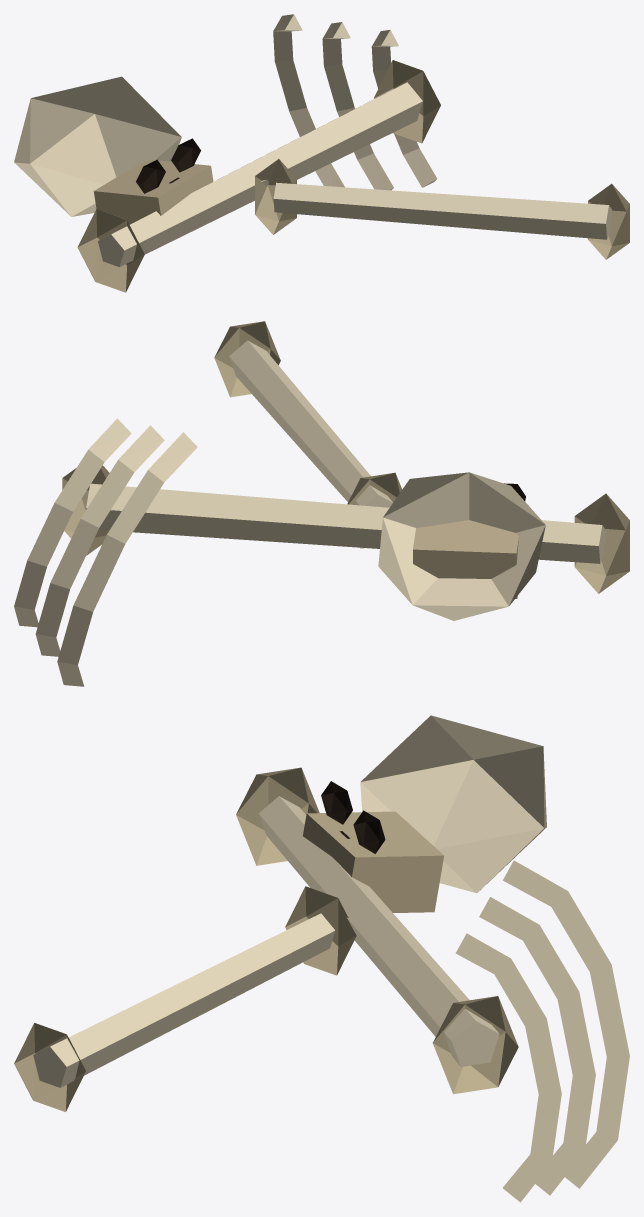
File: dk_bones.glb
3 renders of one model, top to bottom at view 1: azimuth 30°, elevation 25°; view 2: azimuth 150°, elevation 25°; view 3: azimuth 270°, elevation 25°, orthographic. The views are drawn at different scales.
Parts seen in each view (by area): view 1: dk_bones; view 2: dk_bones; view 3: dk_bones.
Boxes of the visible parts, x1=… form: dk_bones: x1=14, y1=14, x2=629, y2=292; dk_bones: x1=14, y1=321, x2=629, y2=686; dk_bones: x1=14, y1=715, x2=629, y2=1202.
Size of the model in its own units: 1.7 by 0.8063 by 1.61.
1 material, 1 textured.
